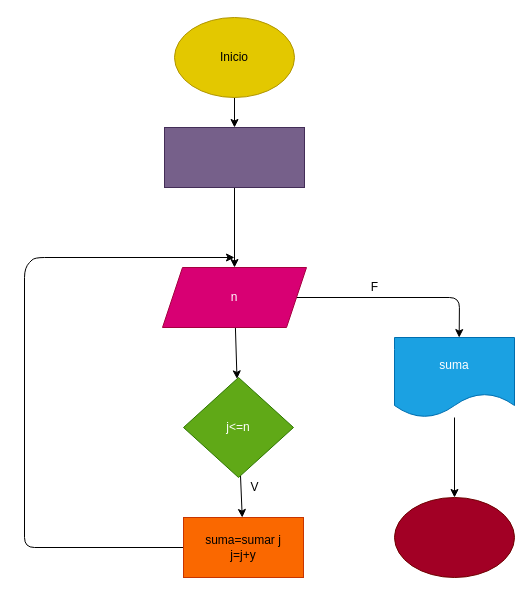
Some shapes in this 532 by 595 pixel diagram are drawn without their labels. The shapes that lost their labels are listed below. From the top down, each one's box as (x1, y1, x2, y2) in pixels, then its label:
(164, 126, 304, 188): suma = 0 j = 0
(394, 496, 514, 578): FIN
